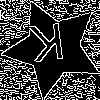K: (28, 23, 68, 72)
